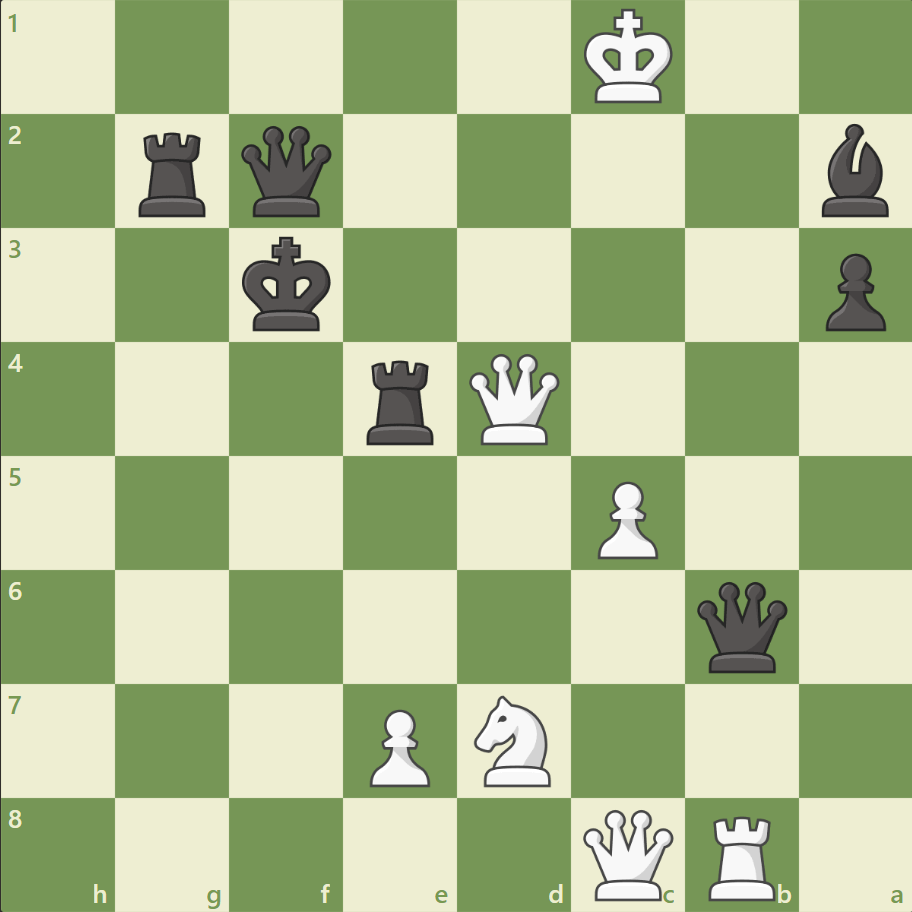K: (579, 4, 679, 112)
N: (465, 688, 562, 791)
P: (361, 700, 435, 791), (588, 473, 662, 564)
Q: (464, 349, 563, 449), (578, 804, 677, 903)
R: (700, 806, 783, 904)
b: (812, 120, 896, 222)
k: (238, 231, 338, 339)
p: (815, 246, 889, 337)
q: (691, 576, 790, 676), (237, 122, 336, 222)
r: (360, 352, 442, 449), (133, 125, 215, 222)
